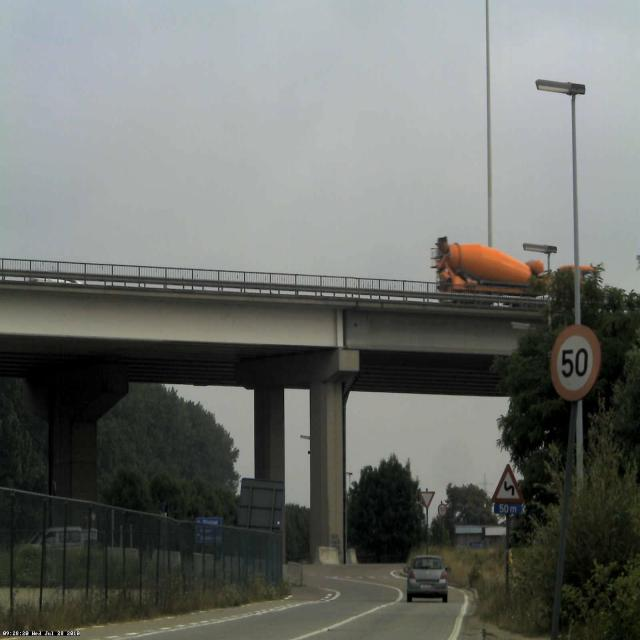other: (419, 230, 551, 300)
